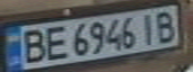4: (103, 16, 127, 52)
6: (118, 15, 142, 49), (69, 20, 90, 56)
9: (87, 19, 109, 55)
B: (15, 26, 51, 64), (151, 8, 181, 43)
E: (39, 24, 72, 61)
I: (136, 10, 163, 45)
